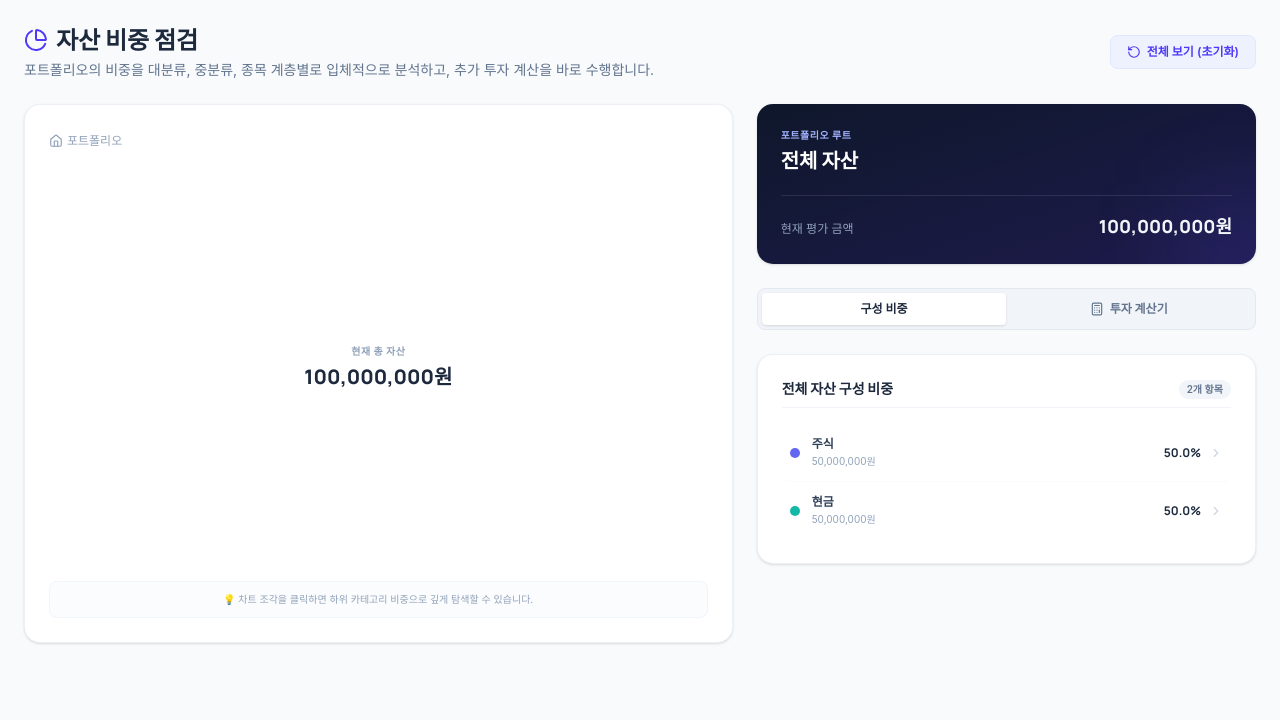
Test: RatioCheckPage › 중분류 클릭 시 종목 단계로 드릴다운되어 종목 정보가 노출되며, 자산 클릭 전에는 계좌 정보가 노출되지 않다가 클릭 후 펼쳐진다
The image size is (1280, 720).
What coordinates should you click on to do the following:
click the text "주식"
I would click on:
 (823, 444)
Its box is [812,436,834,451].
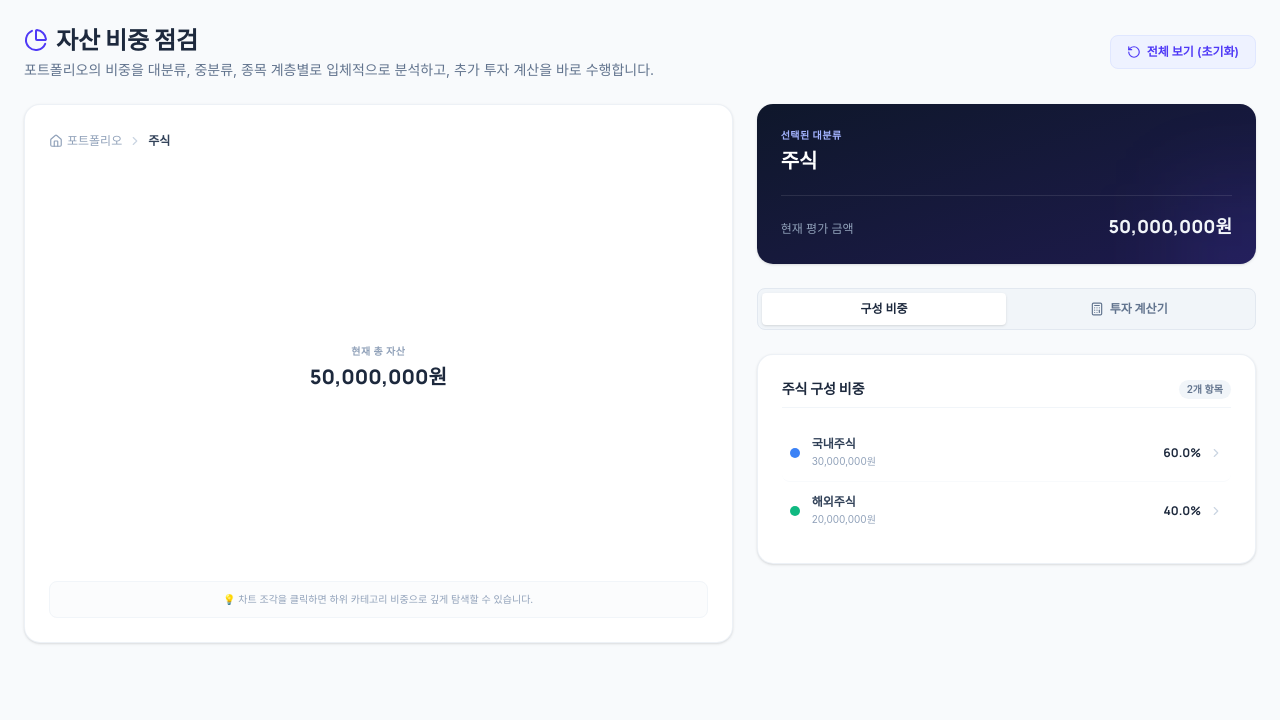
What coordinates should you click on to do the following:
click the text "해외주식"
I would click on:
 (834, 502)
Its box is [812,494,856,509].
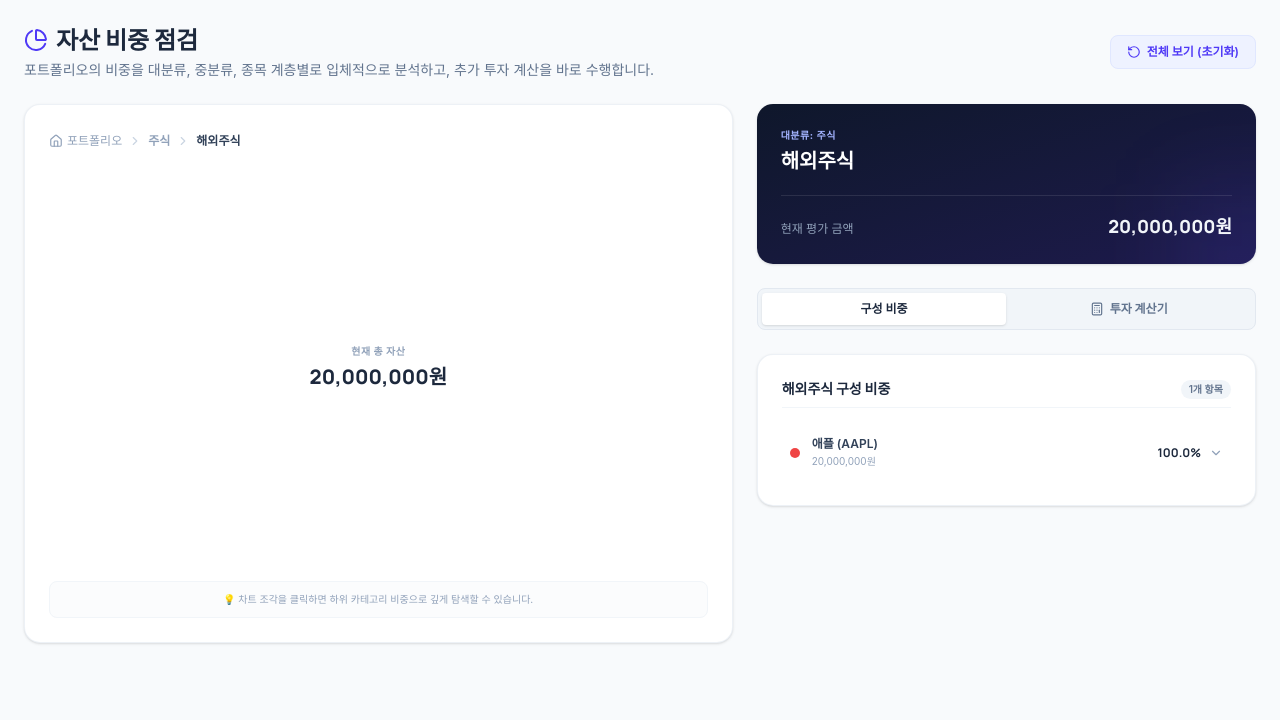
Expected: the text "6066-7729" is not shown
Expected: the text "애플 (AAPL)" is shown
'애플' 항목 클릭하여 아코디언 펼침
What coordinates should you click on to do the following:
click the text "애플 (AAPL)"
I would click on:
 (845, 444)
Its box is [812,436,878,452].
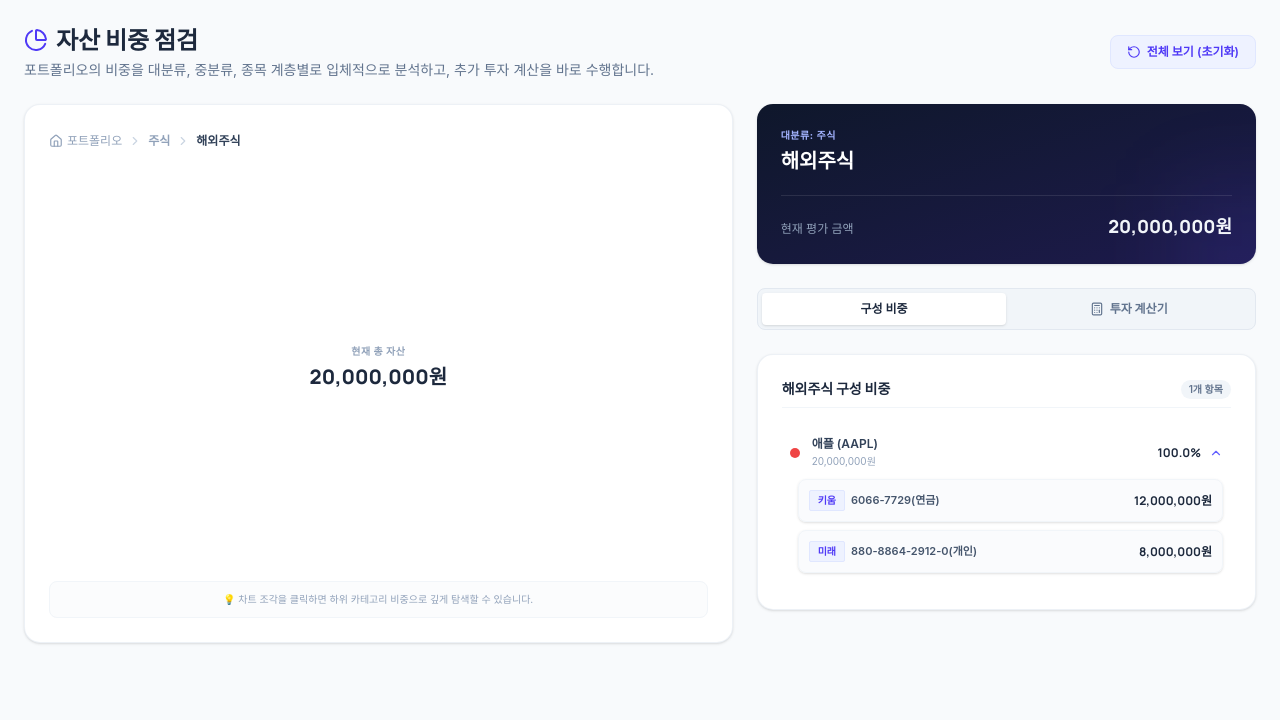
Expected: the text "6066-7729(연금)" is shown, [851,492,940,509]
Expected: the text "880-8864-2912-0(개인)" is shown, [851,543,977,560]
